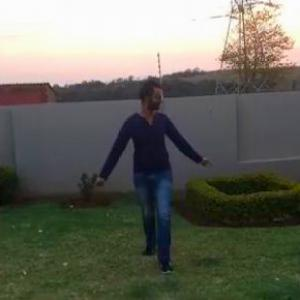land: (76, 71, 228, 282)
